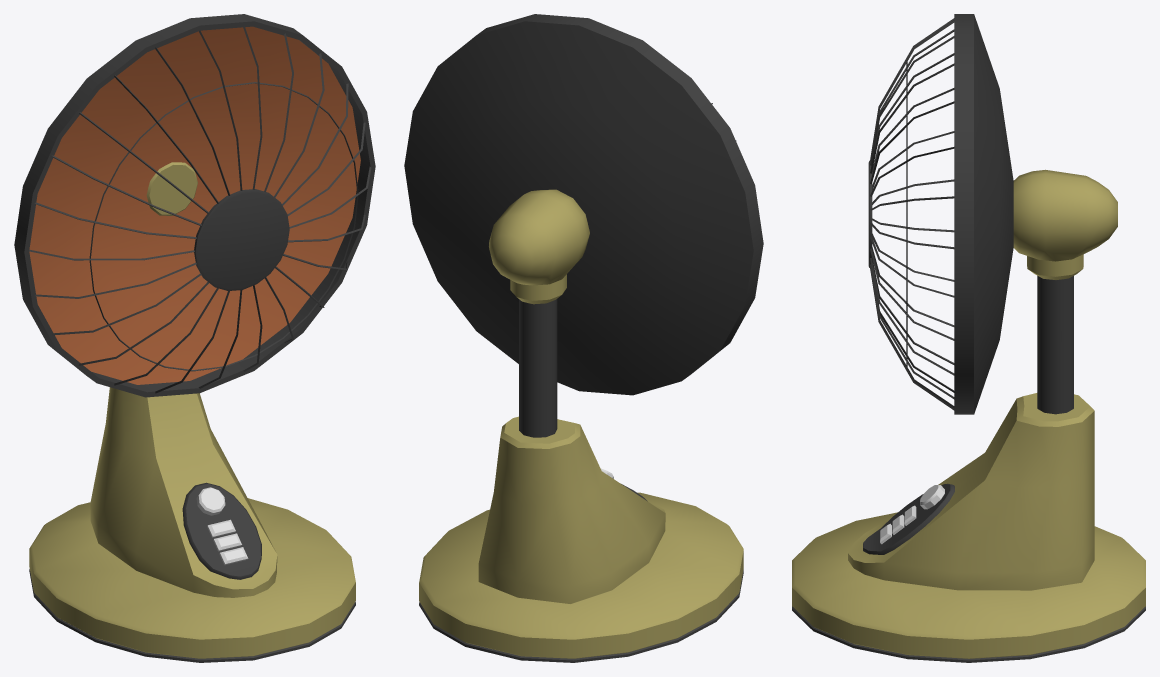
The picture shows the model from 3 angles, left to right: view 1: azimuth 30°, elevation 25°; view 2: azimuth 150°, elevation 25°; view 3: azimuth 270°, elevation 25°; orthographic projection.
Visible parts, largest first — view 1: A8; view 2: A8; view 3: A8.
Part boxes in pixels (x1,y1,x2,y2): A8: (14,14,375,662); A8: (404,14,763,662); A8: (792,14,1145,662).
Size of the model in its own units: 35.07 by 30.74 by 54.22.
